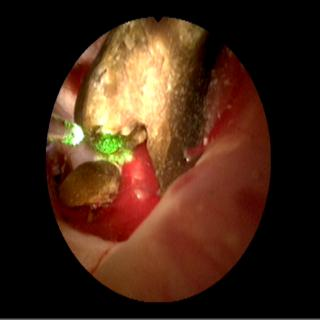laser: (61, 121, 84, 145), (97, 135, 122, 153)
stone: (74, 19, 223, 190), (59, 162, 122, 206)
tissue: (68, 55, 269, 298)
